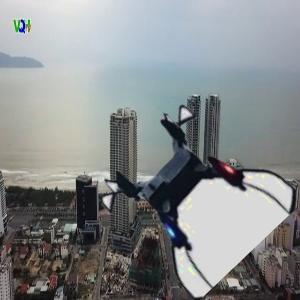drone: (110, 114, 275, 279)
